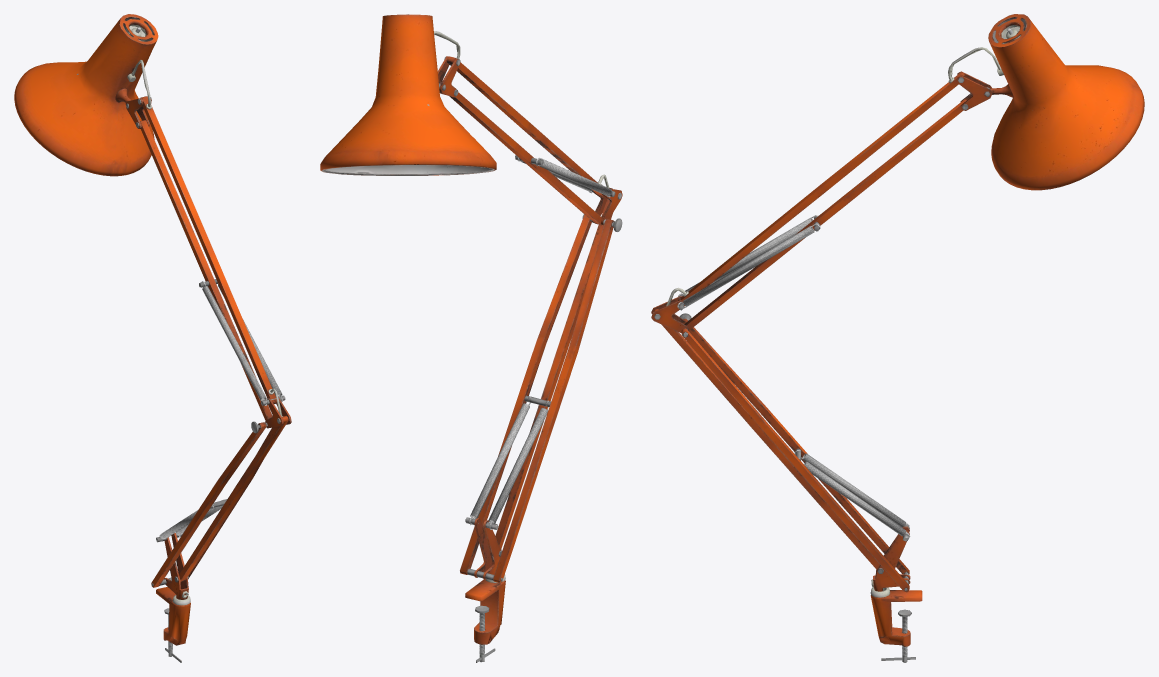
The model's file is desk_lamp_arm_01.glb.
3 views of the same model, side by side, from view 1: azimuth 30°, elevation 25°; view 2: azimuth 150°, elevation 25°; view 3: azimuth 270°, elevation 25° (orthographic). The views are drawn at different scales.
Parts seen in each view (by area): view 1: desk_lamp_arm_01; view 2: desk_lamp_arm_01; view 3: desk_lamp_arm_01.
Boxes of the visible parts, bbox=[...] form: desk_lamp_arm_01: bbox=[14, 14, 291, 662]; desk_lamp_arm_01: bbox=[320, 14, 622, 662]; desk_lamp_arm_01: bbox=[651, 14, 1144, 662].
Size of the model in its own units: 0.2017 by 0.8926 by 0.6139.
Materials: 2 (2 with a texture image).
